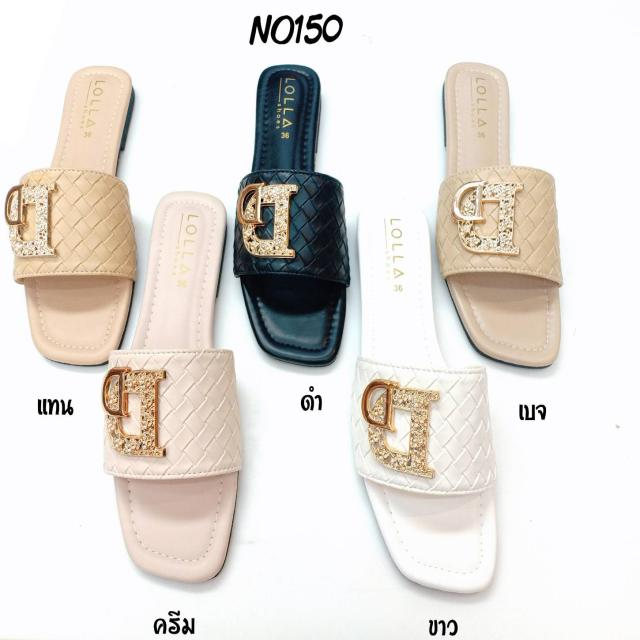bej: (446, 61, 562, 374)
black: (250, 67, 347, 364)
cream: (116, 192, 241, 576)
tan: (30, 62, 133, 364)
white: (357, 199, 498, 591)
